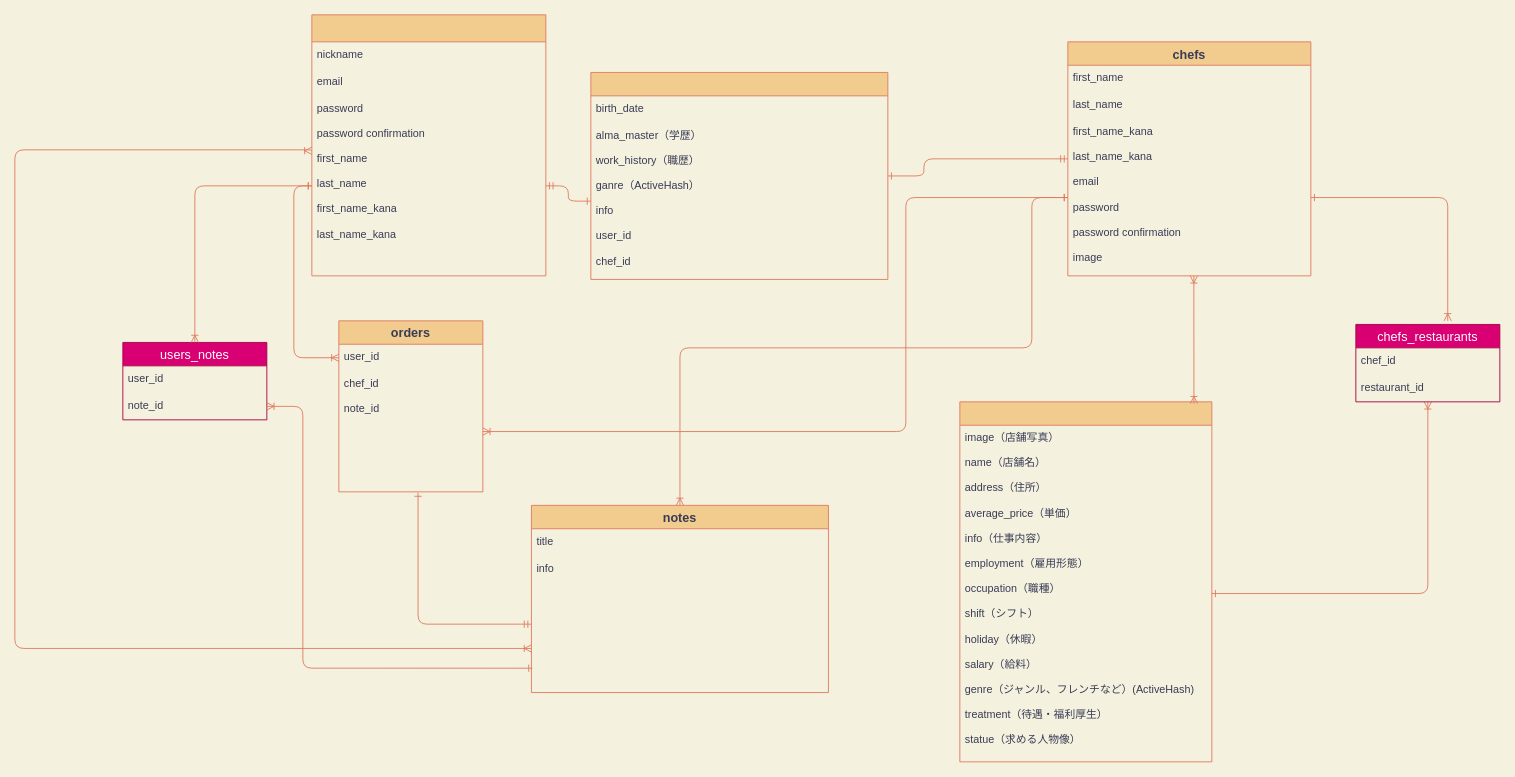
This 1515x777 diagram has some shape labels left out. Each missing label, with the box of its shape:
careers: (590, 72, 888, 279)
restaurants: (959, 401, 1212, 762)
users: (311, 14, 546, 276)
